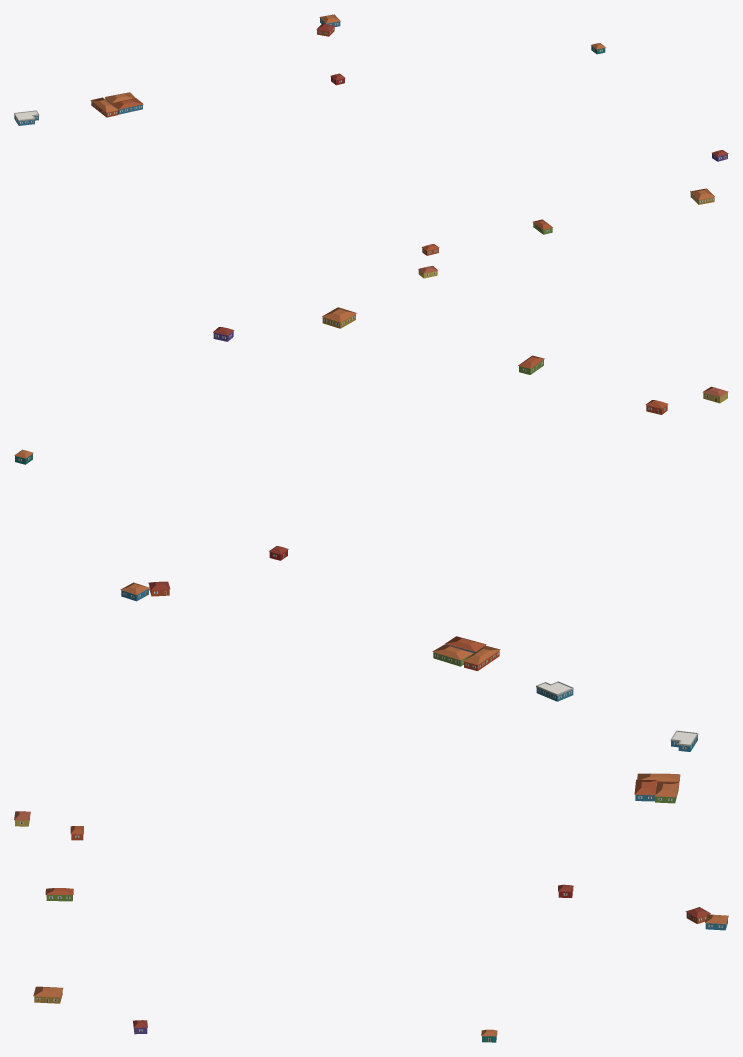
The model's file is msb_oranjestad_m18_m1.glb.
3 views of the same model, one above another, from view 1: azimuth 30°, elevation 25°; view 2: azimuth 150°, elevation 25°; view 3: azimuth 270°, elevation 25° (orthographic). The views are drawn at different scales.
Parts seen in each view (by area): view 1: msb_oranjestad_m18_m1_lod0; view 2: msb_oranjestad_m18_m1_lod0; view 3: msb_oranjestad_m18_m1_lod0.
Part boxes in pixels (x1,y1,x2,y2): msb_oranjestad_m18_m1_lod0: [14, 14, 728, 278]; msb_oranjestad_m18_m1_lod0: [14, 307, 728, 701]; msb_oranjestad_m18_m1_lod0: [14, 730, 728, 1042].
Size of what is drawn, in the model's own units: 360 by 11.64 by 348.
3 materials, 1 textured.
